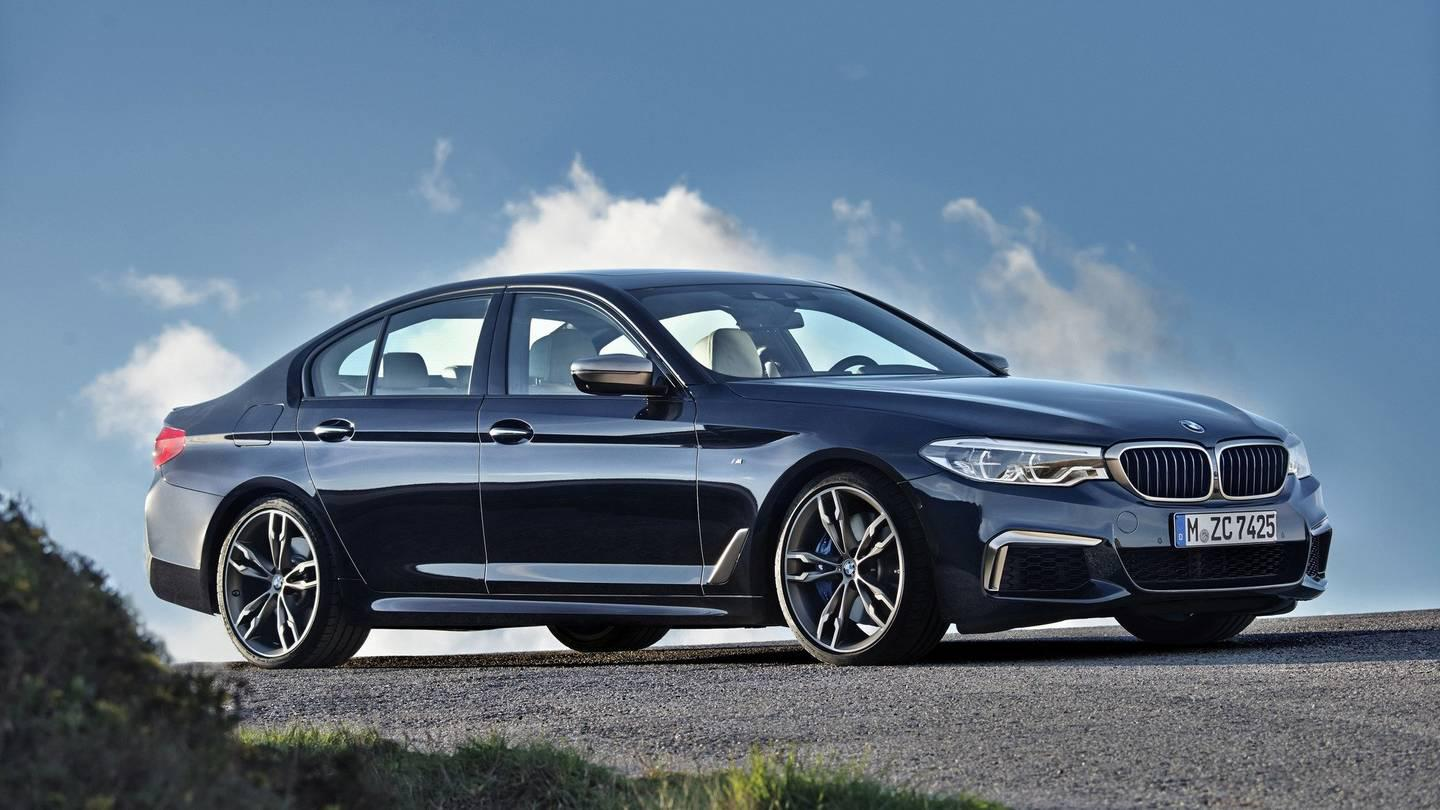car: (132, 245, 1354, 675)
